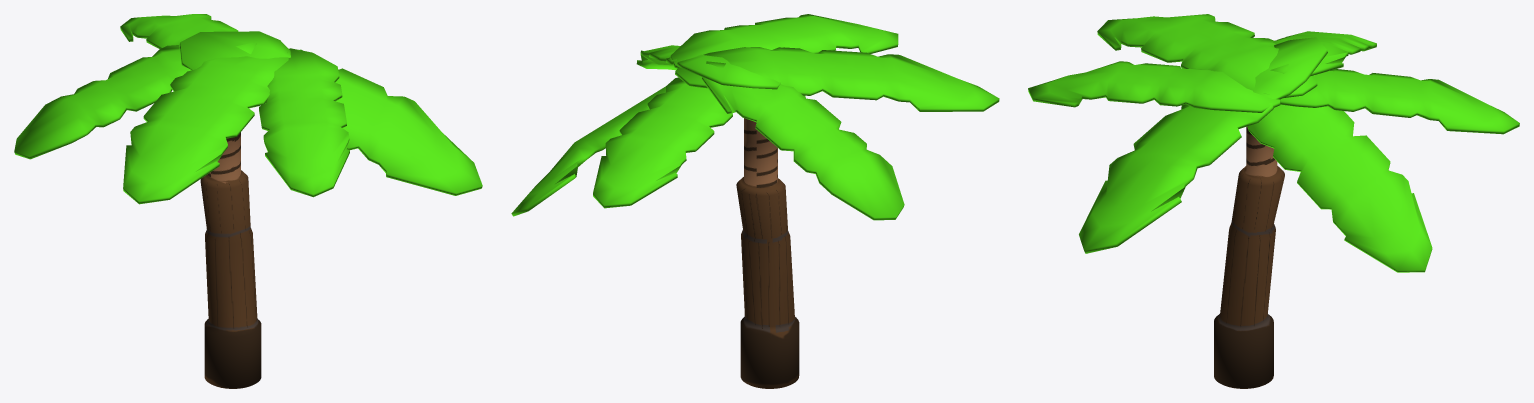
Rendered from PalmTree.fbx.
3 renders of one model, left to right at view 1: azimuth 30°, elevation 25°; view 2: azimuth 150°, elevation 25°; view 3: azimuth 270°, elevation 25°, orthographic. The views are drawn at different scales.
Parts seen in each view (by area): view 1: PalmTreeSolo; view 2: PalmTreeSolo; view 3: PalmTreeSolo.
Boxes of the visible parts, bbox=[...] form: PalmTreeSolo: bbox=[14, 14, 482, 388]; PalmTreeSolo: bbox=[511, 14, 999, 388]; PalmTreeSolo: bbox=[1028, 14, 1519, 388].
Size of the model in its own units: 1422 by 1220 by 1641.
